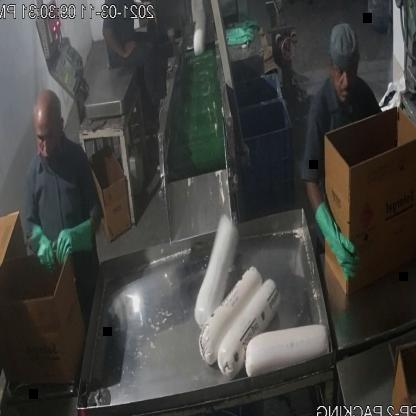glove: (311, 207, 360, 283), (54, 219, 97, 270), (26, 221, 60, 275)
no_glove: (98, 22, 136, 62)
